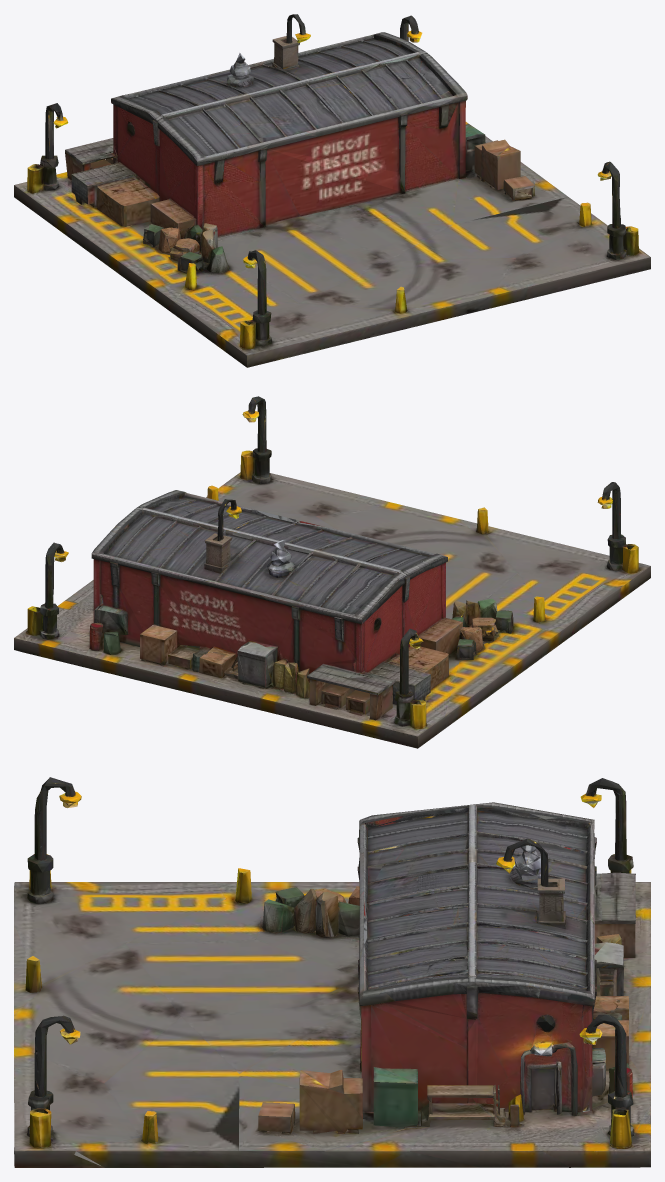
The model's file is truck_depot_bottom_entrance_ne.glb.
3 views of the same model, one above another, from view 1: azimuth 30°, elevation 25°; view 2: azimuth 150°, elevation 25°; view 3: azimuth 270°, elevation 25° (orthographic). The views are drawn at different scales.
Parts seen in each view (by area): view 1: normalize; view 2: normalize; view 3: normalize.
Part boxes in pixels (x1,y1,x2,y2): normalize: (14, 14, 650, 367); normalize: (14, 396, 650, 748); normalize: (14, 777, 650, 1167).
Bounding box in the file's own units: 1 × 0.3754 × 1.
1 material, 1 textured.
